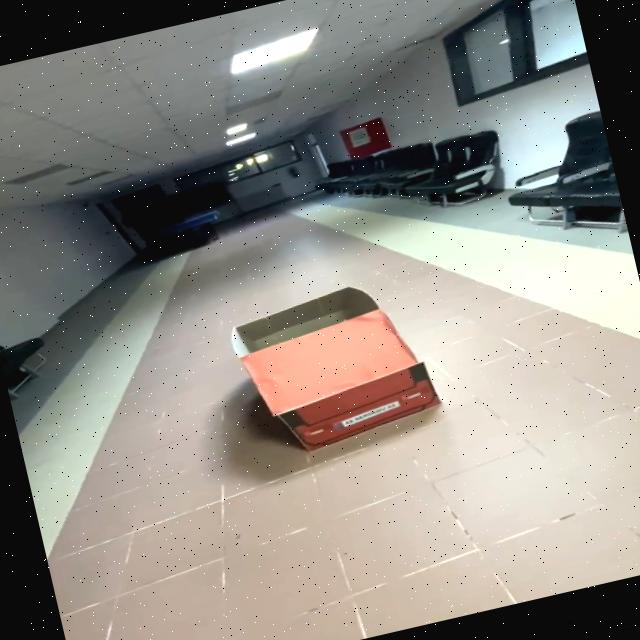red_car: (196, 259, 471, 480)
